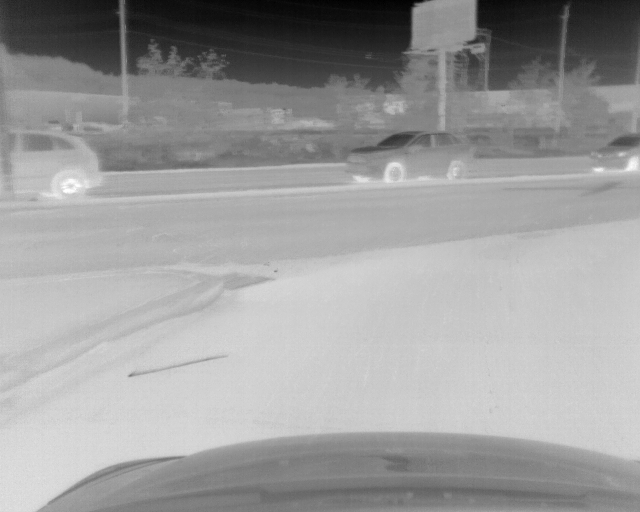car: (344, 129, 470, 184), (12, 127, 104, 200), (585, 133, 640, 174)
